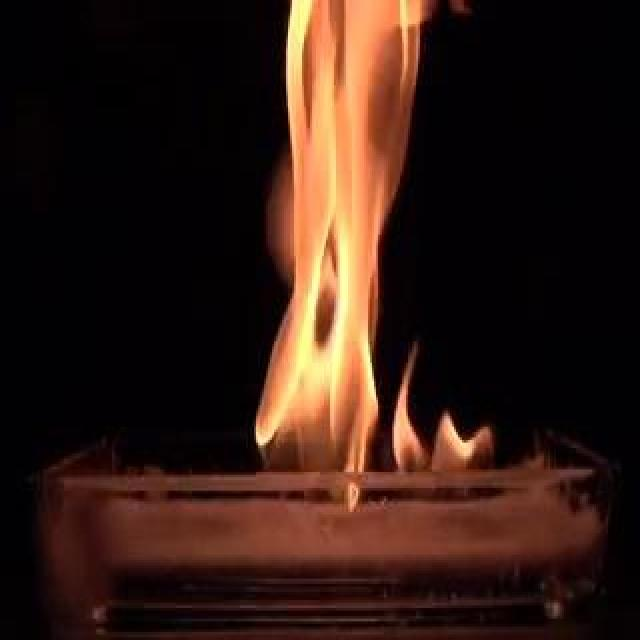Fire: (301, 270, 393, 493)
